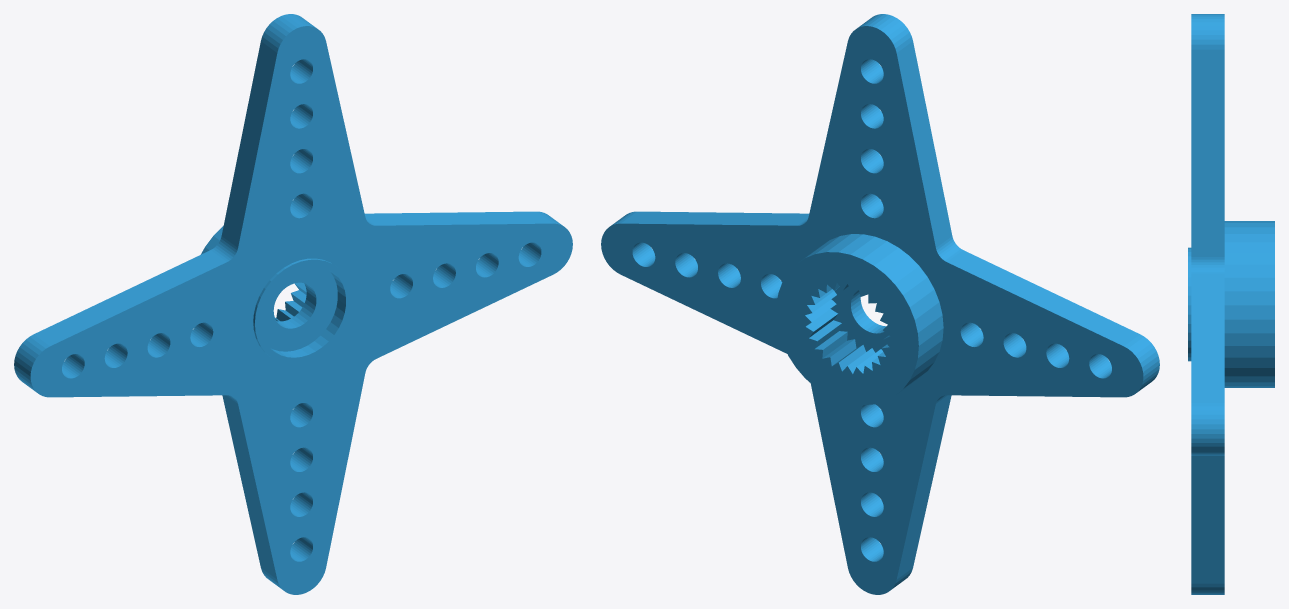
3 renders of one model, left to right at view 1: azimuth 30°, elevation 25°; view 2: azimuth 150°, elevation 25°; view 3: azimuth 270°, elevation 25°, orthographic.
Parts seen in each view (by area): view 1: Object.1; view 2: Object.1; view 3: Object.1.
Part boxes in pixels (x1,y1,x2,y2): Object.1: (14,14,572,594); Object.1: (601,14,1159,594); Object.1: (1188,14,1274,594).
Bounding box in the file's own units: 38 × 38 × 5.2.
